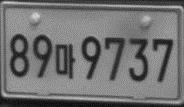3: (127, 37, 149, 82)
7: (102, 35, 126, 81), (152, 37, 173, 83)
8: (8, 32, 29, 78)
9: (32, 34, 53, 78), (81, 36, 101, 80)
마: (54, 42, 77, 79)
